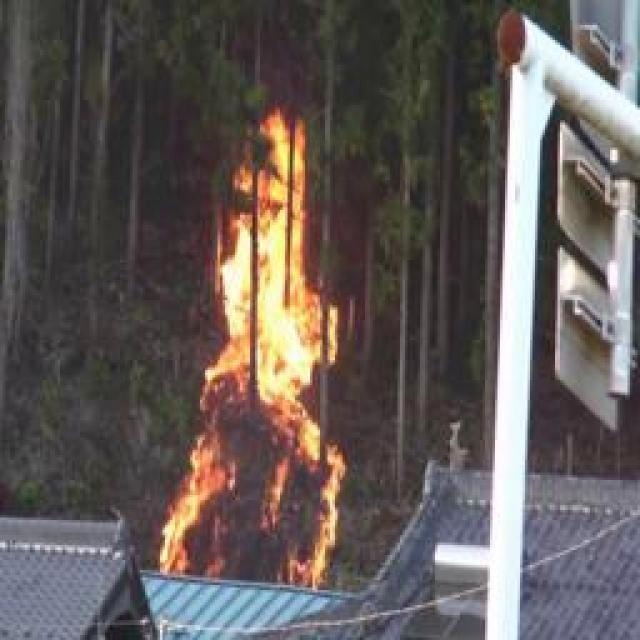Fire: (170, 106, 350, 585)
